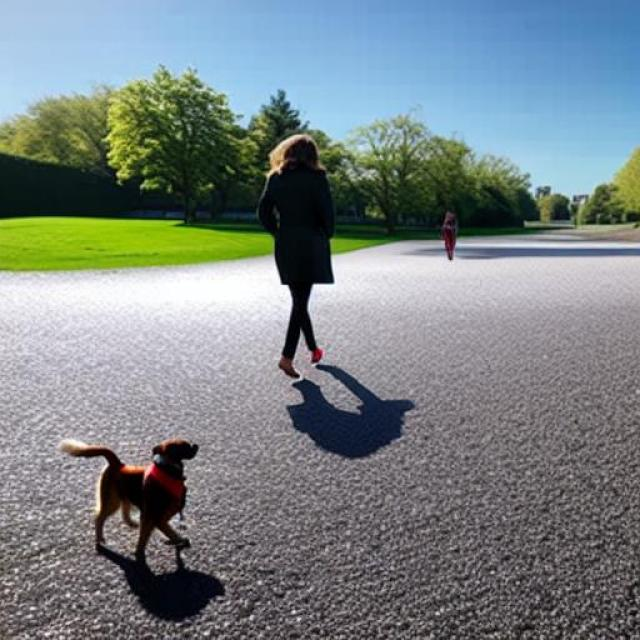Unleashed_Dog: (59, 230, 330, 558)
